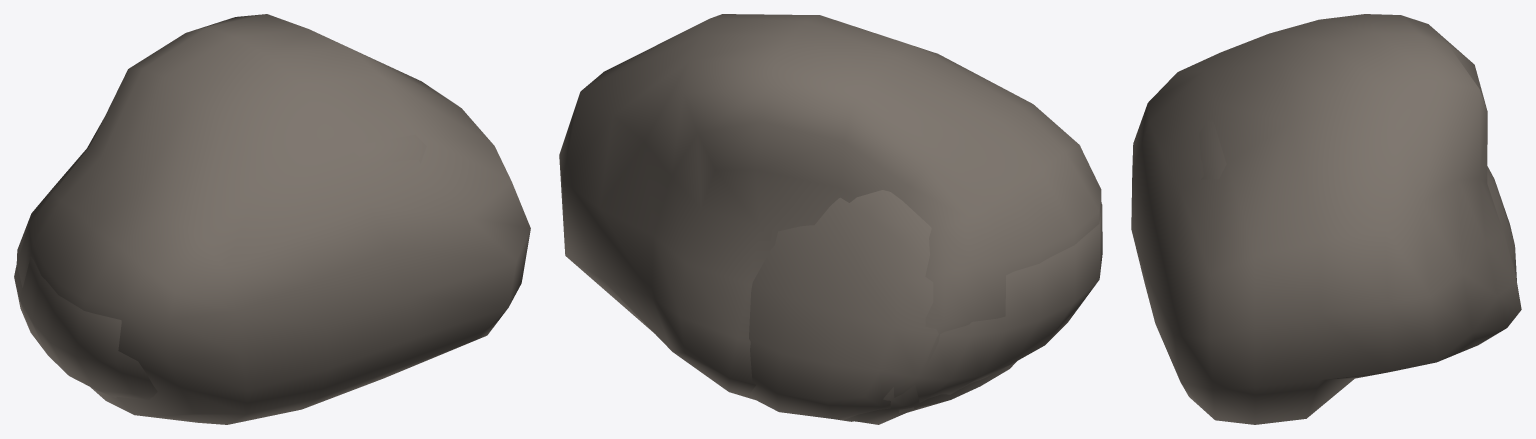
Rendered from Pedras_Media_Pequenas.fbx.
3 views of the same model, side by side, from view 1: azimuth 30°, elevation 25°; view 2: azimuth 150°, elevation 25°; view 3: azimuth 270°, elevation 25° (orthographic). The views are drawn at different scales.
Visible parts, largest first — view 1: Preda_Media_02, Preda_Media_01; view 2: Preda_Media_02, Preda_Media_01; view 3: Preda_Media_02, Preda_Media_01.
Part boxes in pixels (left/top/right/bottom): Preda_Media_02: left=16, top=14, right=530, bottom=424; Preda_Media_01: left=14, top=134, right=426, bottom=400; Preda_Media_02: left=559, top=14, right=1101, bottom=424; Preda_Media_01: left=749, top=190, right=1102, bottom=421; Preda_Media_02: left=1131, top=14, right=1521, bottom=424; Preda_Media_01: left=1199, top=120, right=1516, bottom=280.
Bounding box in the file's own units: 86.95 × 60.1 × 63.23.
